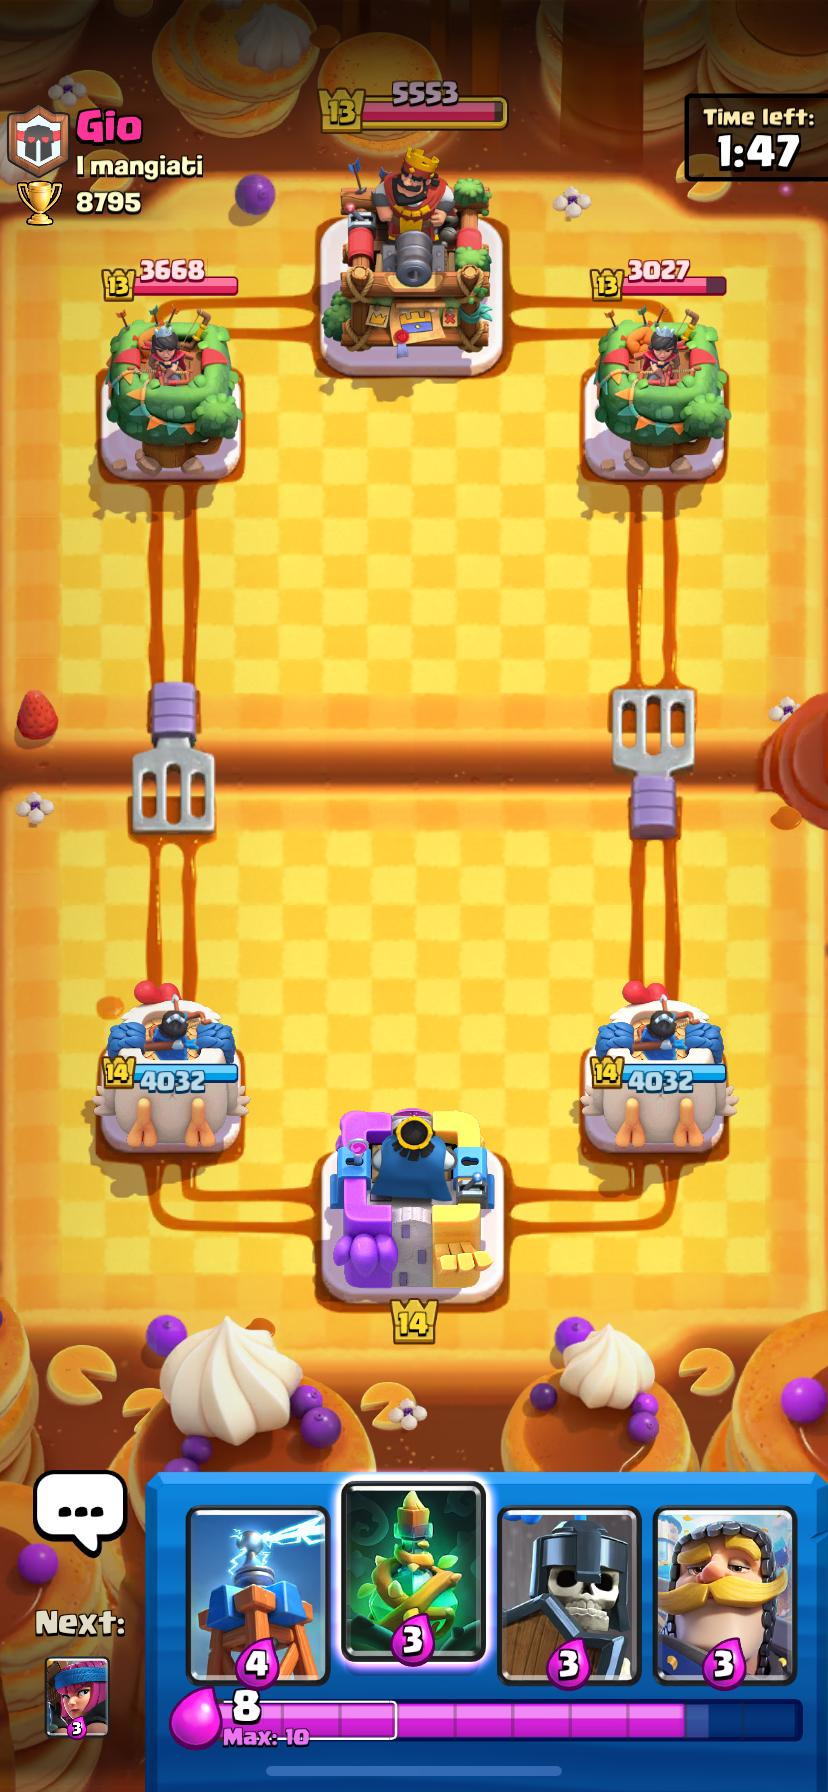EKingTower: (321, 147, 502, 376)
EnemyPrincessTower: (102, 304, 242, 479), (594, 309, 729, 478)
OwnKingTower: (321, 1109, 503, 1303)
OwnPrincessTower: (580, 982, 737, 1154), (93, 983, 248, 1152)
